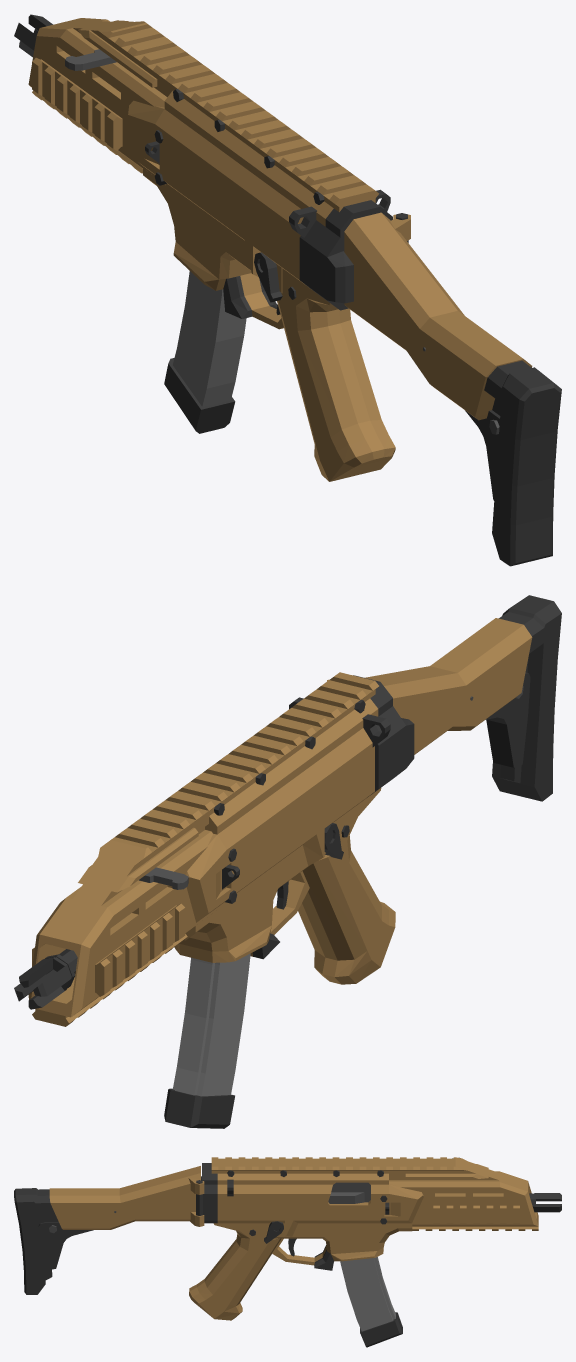
The model's file is Scorpion_Tan.fbx.
3 renders of one model, top to bottom at view 1: azimuth 30°, elevation 25°; view 2: azimuth 150°, elevation 25°; view 3: azimuth 270°, elevation 25°, orthographic. The views are drawn at different scales.
Parts seen in each view (by area): view 1: EVO3, Stock, Magazine, Bolt; view 2: EVO3, Stock, Magazine, Bolt; view 3: EVO3, Stock, Magazine, Bolt.
Part boxes in pixels (x1,y1,x2,y2): EVO3: [14, 14, 395, 481]; Stock: [344, 212, 561, 566]; Magazine: [164, 271, 246, 433]; Bolt: [65, 49, 116, 70]; EVO3: [14, 672, 414, 1026]; Stock: [327, 595, 561, 801]; Magazine: [164, 953, 250, 1128]; Bolt: [139, 867, 188, 889]; EVO3: [189, 1157, 561, 1320]; Stock: [14, 1166, 204, 1294]; Magazine: [340, 1257, 402, 1347]; Bolt: [328, 1157, 459, 1203].
Size of the model in its own units: 34.61 by 106 by 288.
Materials: 1 (1 with a texture image).
